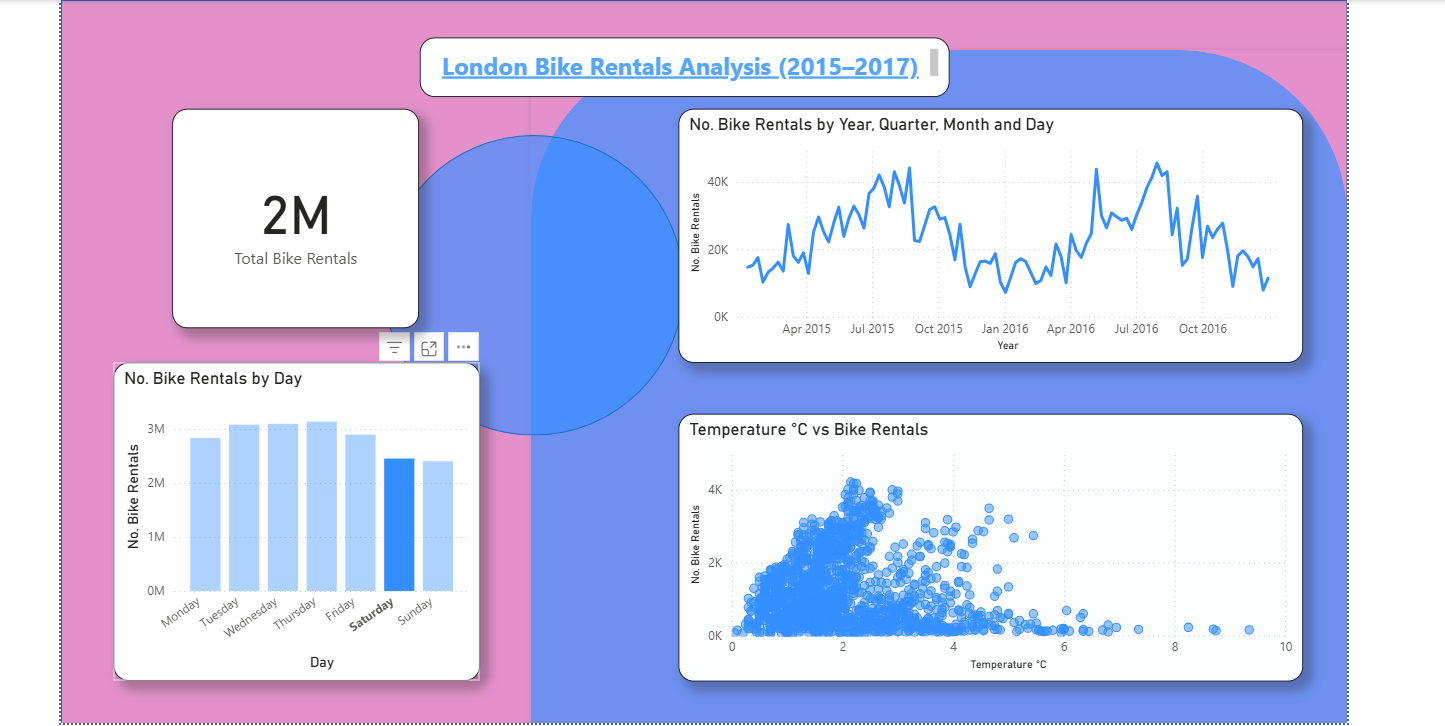

What the dashboard file says about the page in this screenshot:
{"tool":"powerbi","page":{"name":"Page 1","canvas":[1280,720],"ordinal":0},"visuals":[{"type":"shape","box":[0,0,1280.3,720.4],"z":1000},{"type":"shape","box":[467.9,49.4,812.4,671],"z":1750},{"type":"shape","box":[321.1,134.5,299.1,299.1],"z":1875},{"type":"lineChart","fields":{"Y":["Sum(london_merged.cnt)"],"Category":["london_merged.Date.Variation.Date Hierarchy.Year","london_merged.Date.Variation.Date Hierarchy.Quarter","london_merged.Date.Variation.Date Hierarchy.Month","london_merged.Date.Variation.Date Hierarchy.Day"]},"box":[614.8,108.4,621.6,252.5],"z":2000},{"type":"columnChart","fields":{"Y":["Sum(london_merged.cnt)"],"Category":["london_merged.Weekday"]},"box":[52.1,360.9,365,317],"z":3000},{"type":"card","fields":{"Values":["Sum(london_merged.cnt)"]},"box":[111.1,108.4,245.6,218.2],"z":4000},{"type":"scatterChart","title":"Temperature °C vs Bike Rentals","fields":{"Y":["Sum(london_merged.cnt)"],"X":["Sum(london_merged.Temperature_C)"]},"box":[614.8,411.7,621.6,266.2],"z":5000},{"type":"textbox","box":[356.8,37,526.9,59],"z":6500}]}

Visuals, with their boxes on the page's 1280x720 design canvas (x1, y1, x2, y2). These are canvas units, not pixel positions in the 1445x726 screenshot, which may show the page scaled, cropped or inside an application window:
shape: x1=0, y1=0, x2=1280, y2=720
shape: x1=468, y1=49, x2=1280, y2=720
shape: x1=321, y1=134, x2=620, y2=434
lineChart - Sum(london_merged.cnt) x london_merged.Date.Variation.Date Hierarchy.Year: x1=615, y1=108, x2=1236, y2=361
columnChart - Sum(london_merged.cnt) x london_merged.Weekday: x1=52, y1=361, x2=417, y2=678
card - Sum(london_merged.cnt): x1=111, y1=108, x2=357, y2=327
"Temperature °C vs Bike Rentals" scatterChart: x1=615, y1=412, x2=1236, y2=678
textbox: x1=357, y1=37, x2=884, y2=96
